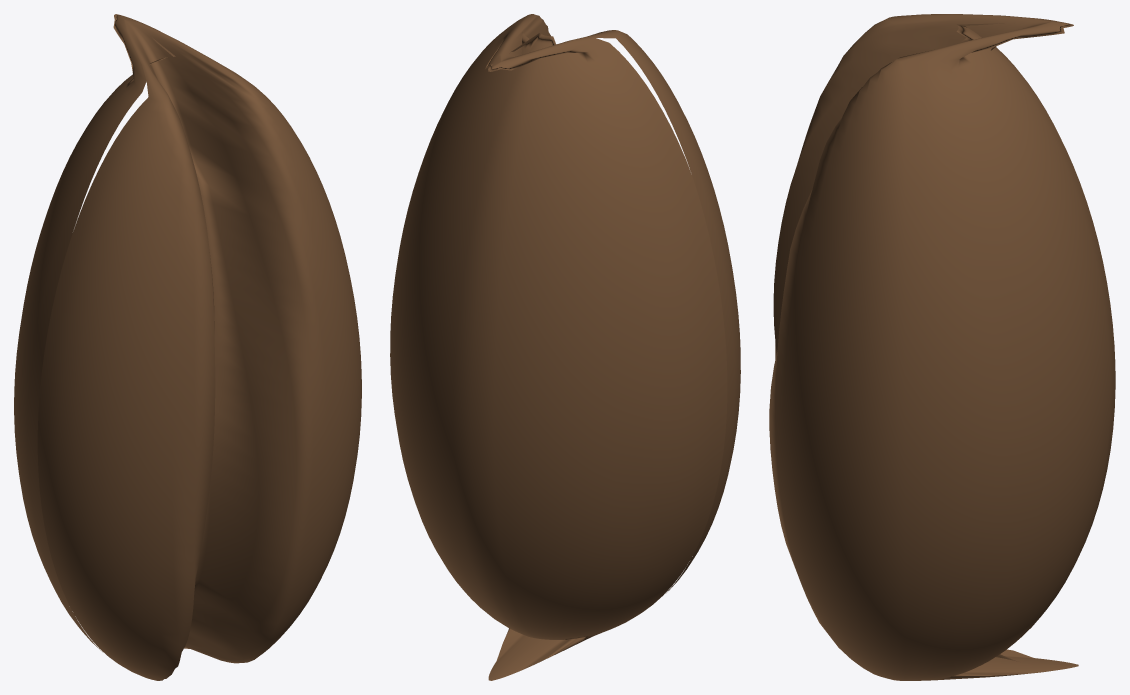
File: coffee-bean.glb
3 renders of one model, left to right at view 1: azimuth 30°, elevation 25°; view 2: azimuth 150°, elevation 25°; view 3: azimuth 270°, elevation 25°, orthographic. The views are drawn at different scales.
Visible parts, largest first — view 1: CoffeeBean; view 2: CoffeeBean; view 3: CoffeeBean.
Boxes of the visible parts, x1=… form: CoffeeBean: x1=14, y1=14, x2=361, y2=680; CoffeeBean: x1=390, y1=14, x2=740, y2=680; CoffeeBean: x1=769, y1=14, x2=1115, y2=680.
Size of the model in its own units: 1.45 by 2.7 by 1.31.
